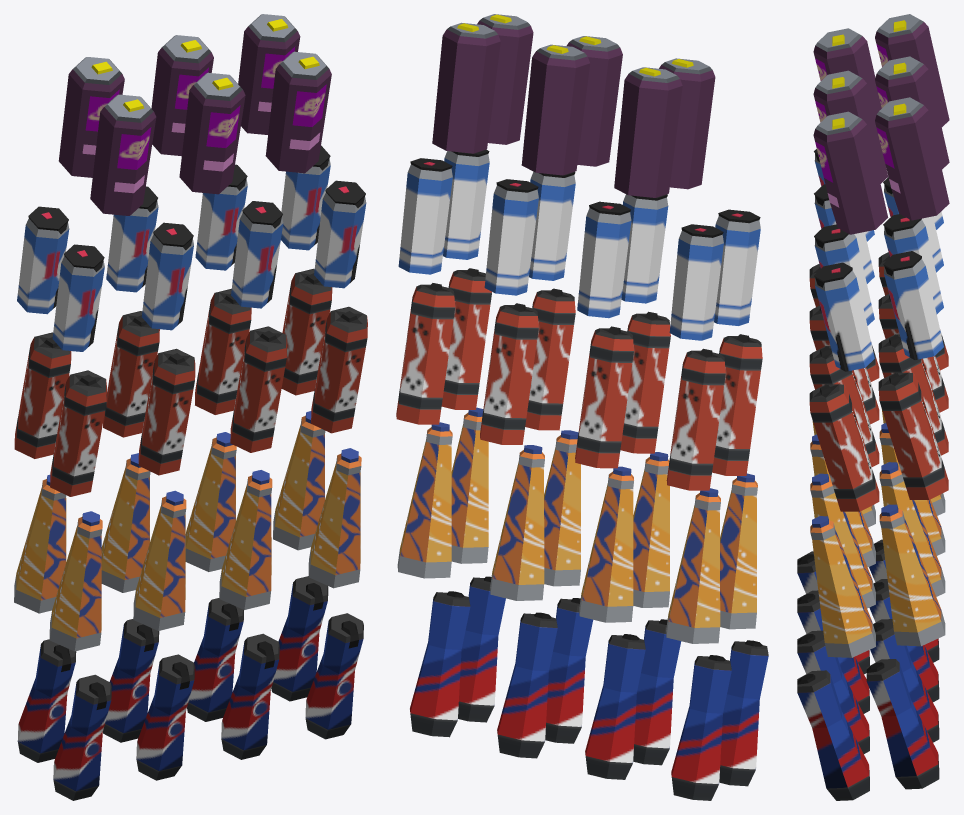
Rendered from SM_Prop_Vending_Machine_01_Insert_01.fbx.
3 renders of one model, left to right at view 1: azimuth 30°, elevation 25°; view 2: azimuth 150°, elevation 25°; view 3: azimuth 270°, elevation 25°, orthographic. The views are drawn at different scales.
Parts seen in each view (by area): view 1: SM_Prop_Vending_Machine_01_Insert_01; view 2: SM_Prop_Vending_Machine_01_Insert_01; view 3: SM_Prop_Vending_Machine_01_Insert_01.
Boxes of the visible parts, bbox=[...] form: SM_Prop_Vending_Machine_01_Insert_01: bbox=[14, 14, 367, 800]; SM_Prop_Vending_Machine_01_Insert_01: bbox=[396, 14, 768, 800]; SM_Prop_Vending_Machine_01_Insert_01: bbox=[797, 14, 949, 800].
Size of the model in its own units: 73.1 by 158 by 31.99.
